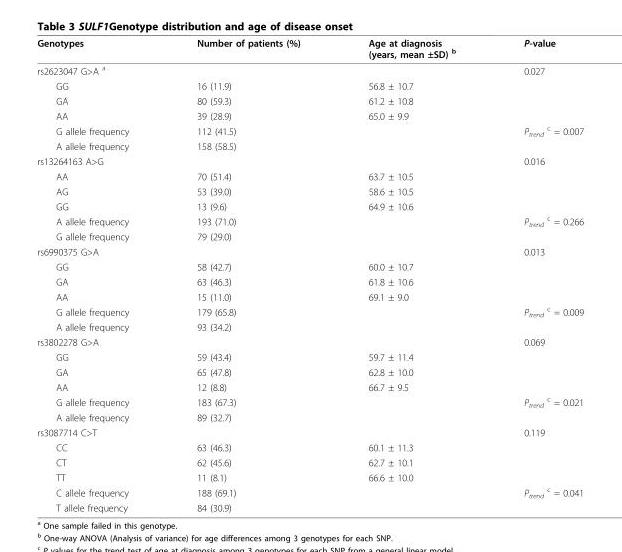table: (36, 36, 583, 513)
table column: (162, 36, 333, 513), (333, 36, 489, 513), (36, 36, 162, 513), (489, 36, 583, 513)
table column header: (36, 36, 583, 61)
table row: (36, 36, 583, 61), (36, 61, 583, 78), (36, 212, 583, 229), (36, 122, 583, 138), (36, 273, 583, 289), (36, 303, 583, 319), (36, 393, 583, 409), (36, 484, 583, 500), (36, 78, 583, 93), (36, 93, 583, 108), (36, 138, 583, 153), (36, 153, 583, 168), (36, 168, 583, 183), (36, 183, 583, 198), (36, 243, 583, 258), (36, 258, 583, 273), (36, 319, 583, 334), (36, 334, 583, 349), (36, 349, 583, 364), (36, 364, 583, 379), (36, 409, 583, 424), (36, 424, 583, 439), (36, 439, 583, 454), (36, 454, 583, 469), (36, 469, 583, 484), (36, 108, 583, 122), (36, 198, 583, 212), (36, 229, 583, 243), (36, 289, 583, 303), (36, 379, 583, 393), (36, 500, 583, 513)
